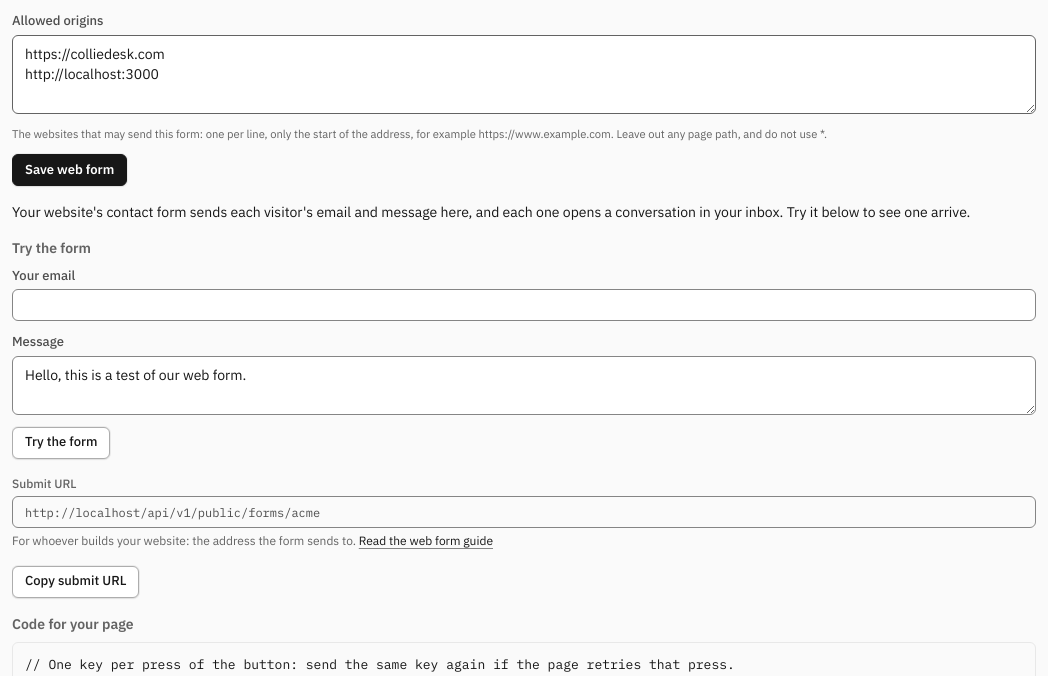
Test: the form explains itself in plain words first and lets the team try it without a developer
The image size is (1048, 676).
expect the text "Your website's contact form sends each visitor's email and message here" is shown: met, box x1=12 y1=203 x2=970 y2=221
Type "me@acme.test" into the field labelled "Your email" at (524, 305), box x1=12 y1=289 x2=1036 y2=321
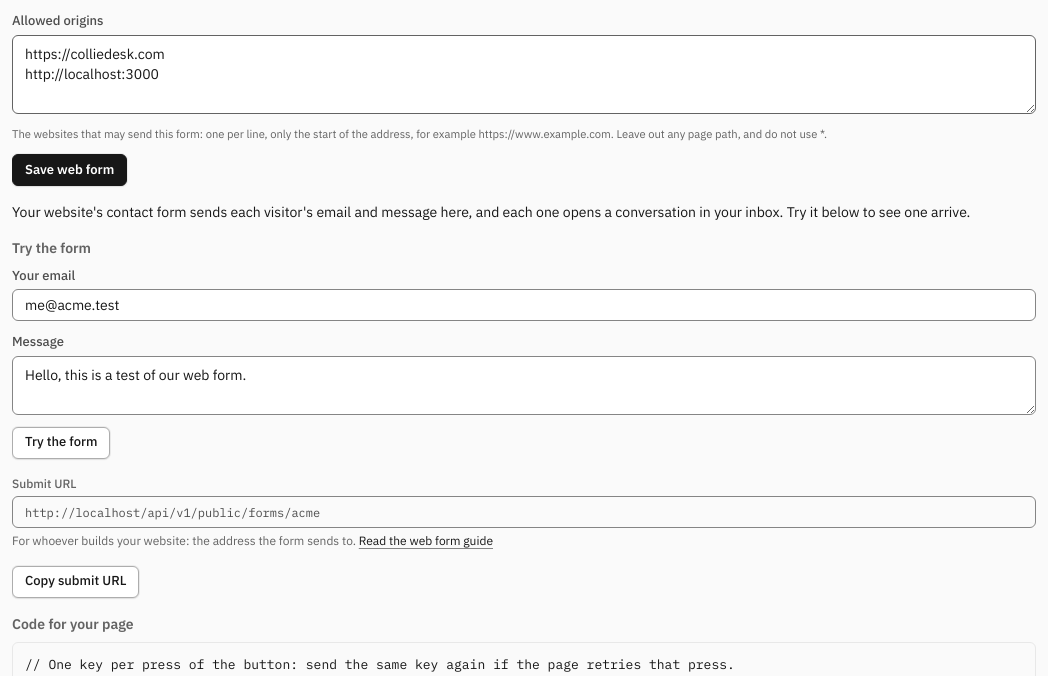
Replace the text in the text box labelled "Message" with "Testing the form" at (524, 386), box x1=12 y1=356 x2=1036 y2=415
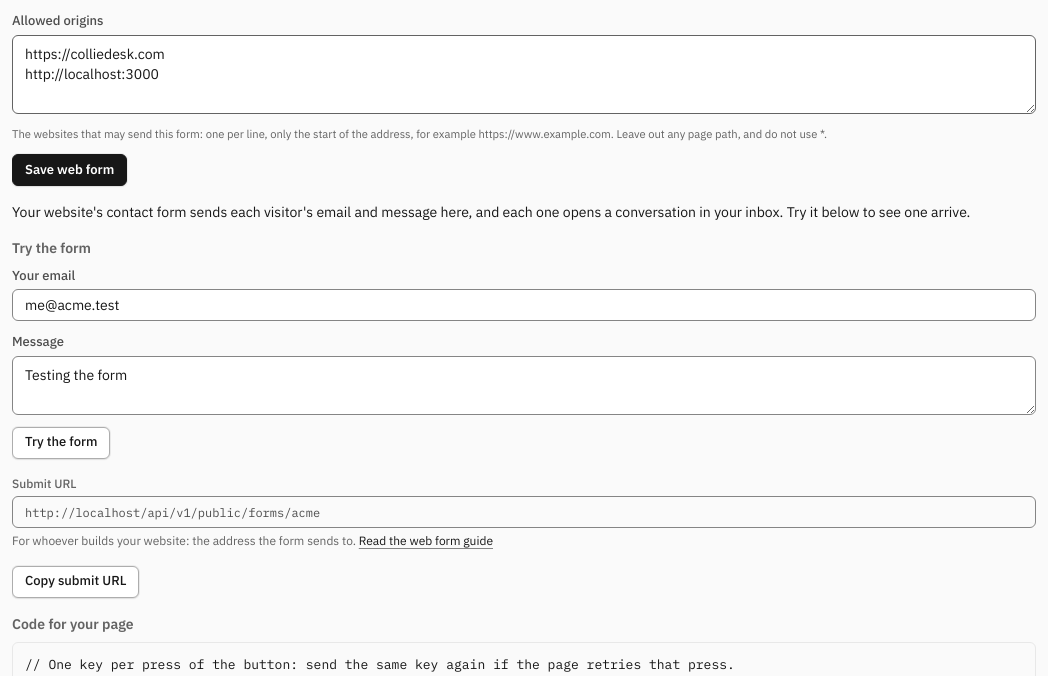
Click the button "Try the form" at (61, 443), box x1=12 y1=427 x2=110 y2=459
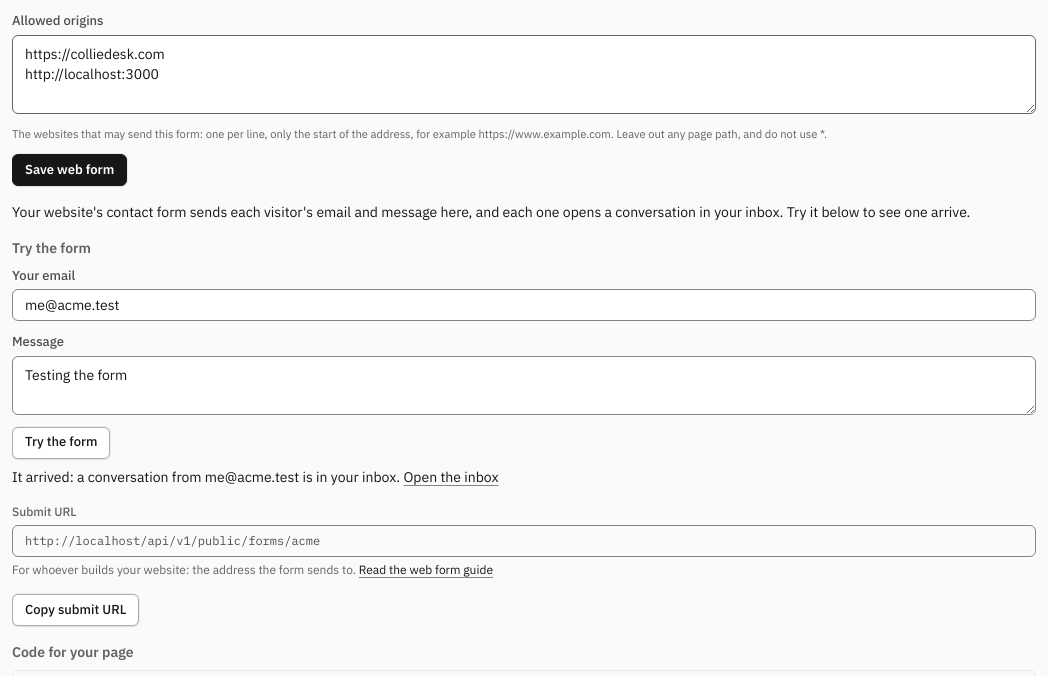
expect the message shows "It arrived: a conversation from me@acme.test is in your inbox.": met, box x1=12 y1=468 x2=400 y2=486
